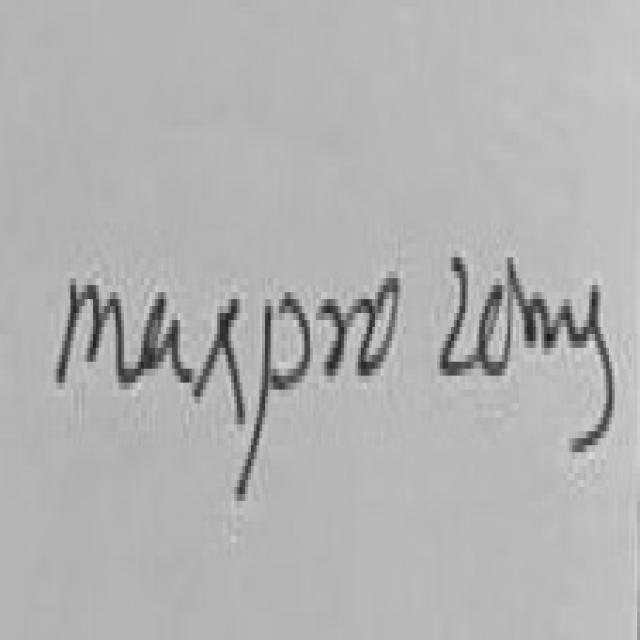0: (479, 285, 514, 376)
2: (443, 257, 476, 376)
a: (144, 292, 192, 383)
g: (575, 285, 617, 452)
m: (56, 285, 138, 383), (510, 257, 589, 348)
o: (361, 278, 400, 372)
p: (237, 292, 313, 501)
r: (319, 299, 376, 376)
x: (195, 297, 245, 421)
